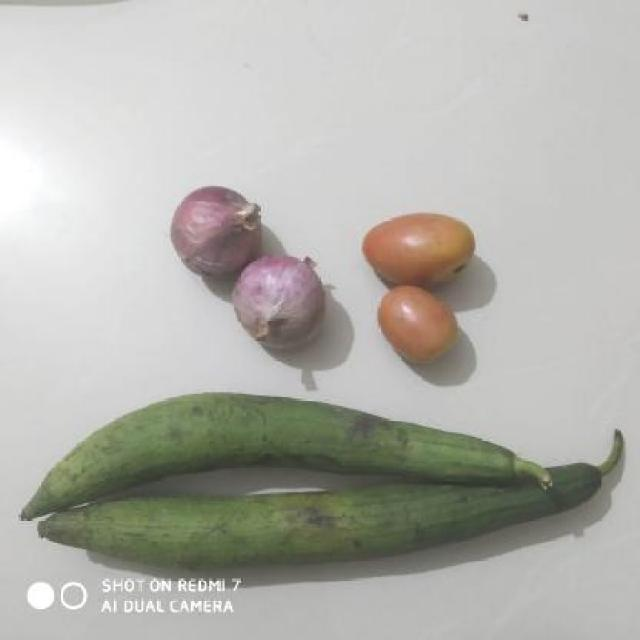Onion: (165, 182, 272, 282), (230, 248, 324, 350)
Sponge Gourd: (4, 392, 614, 590)
Tomato: (360, 197, 483, 296), (369, 286, 482, 376)
